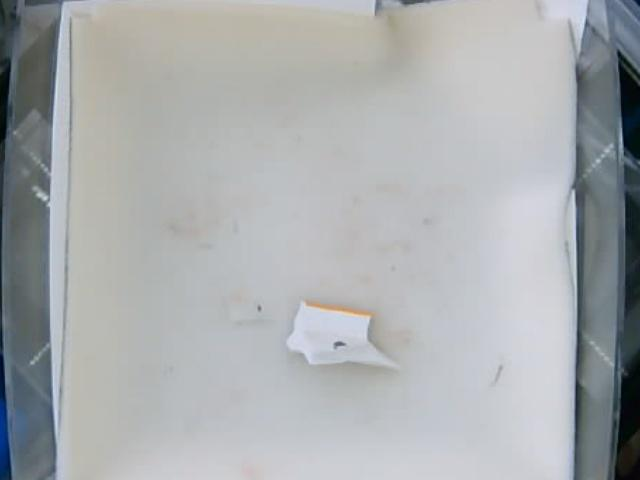China: (279, 304, 403, 373)
